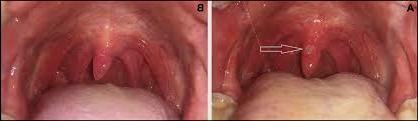Ulcer: (298, 41, 320, 59)
